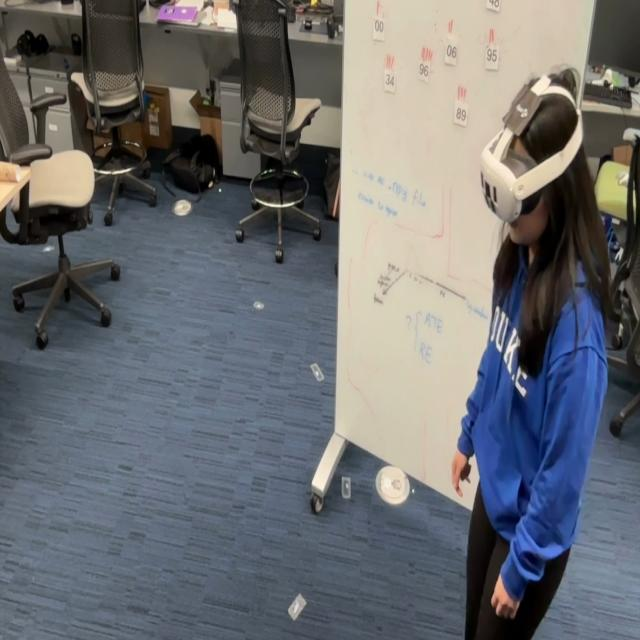Headset: (479, 66, 584, 226)
UnityLogo: (498, 83, 539, 140)
